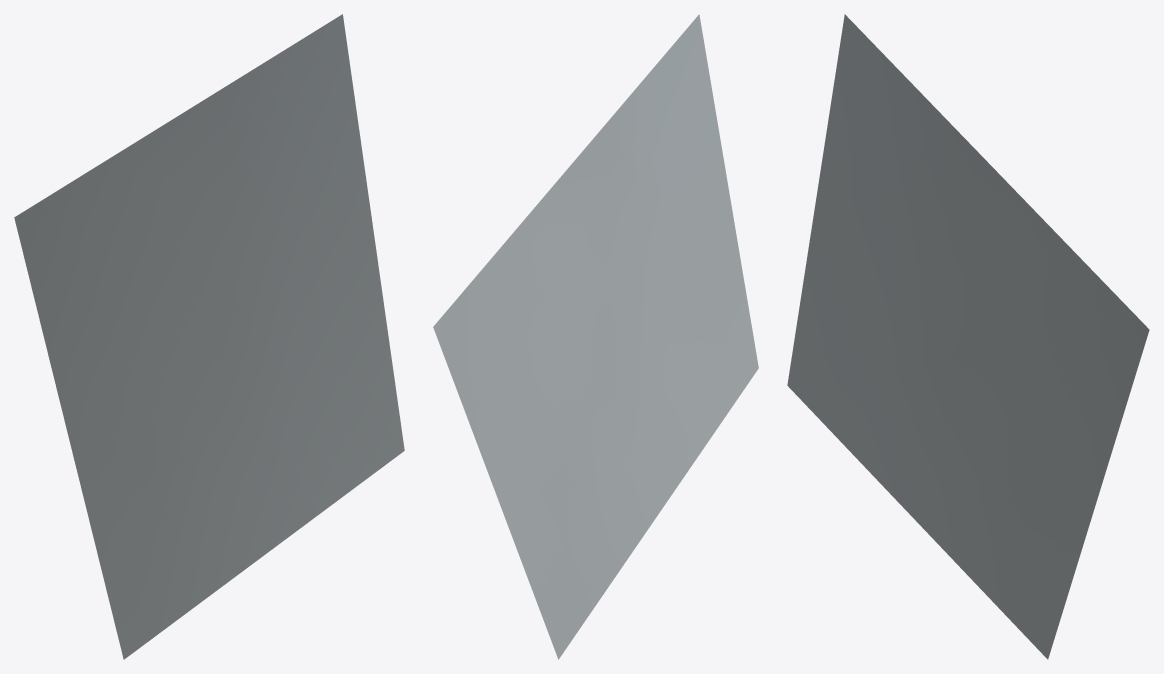
File: crack_4.glb
3 views of the same model, side by side, from view 1: azimuth 90°, elevation 25°; view 2: azimuth 150°, elevation 25°; view 3: azimuth 270°, elevation 25° (orthographic). The views are drawn at different scales.
Visible parts, largest first — view 1: Tile_32.001; view 2: Tile_32.001; view 3: Tile_32.001.
Part boxes in pixels (x1=…): Tile_32.001: x1=14, y1=14, x2=404, y2=659; Tile_32.001: x1=433, y1=14, x2=758, y2=659; Tile_32.001: x1=787, y1=14, x2=1149, y2=659.
Size of the model in its own units: 0.0793 by 0.287 by 0.1513.
1 material, 1 textured.
